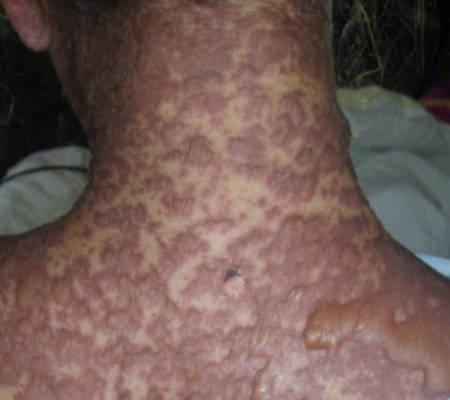SJS-TEN: (0, 4, 450, 400)
